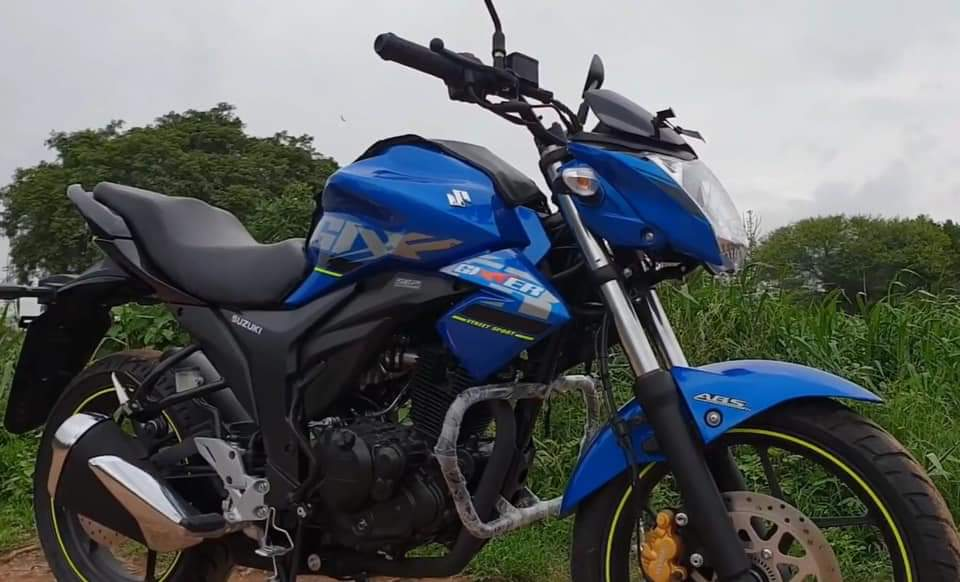bike: (1, 1, 957, 582)
